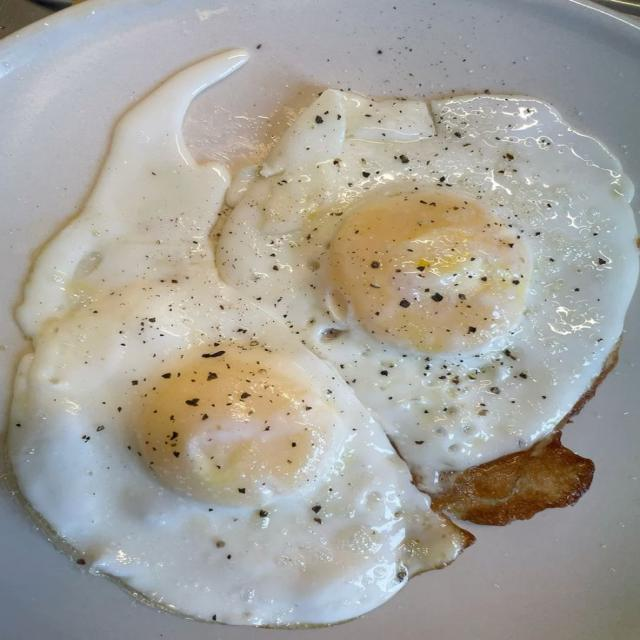fryed egg: (8, 51, 470, 625), (217, 91, 637, 490)
